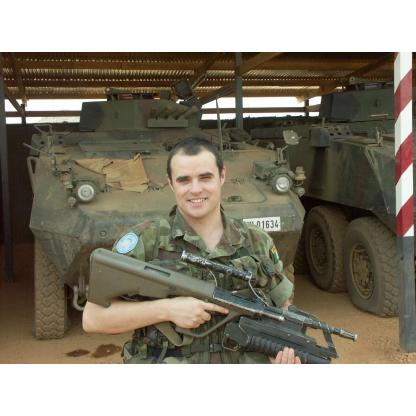gun: (52, 244, 354, 344)
